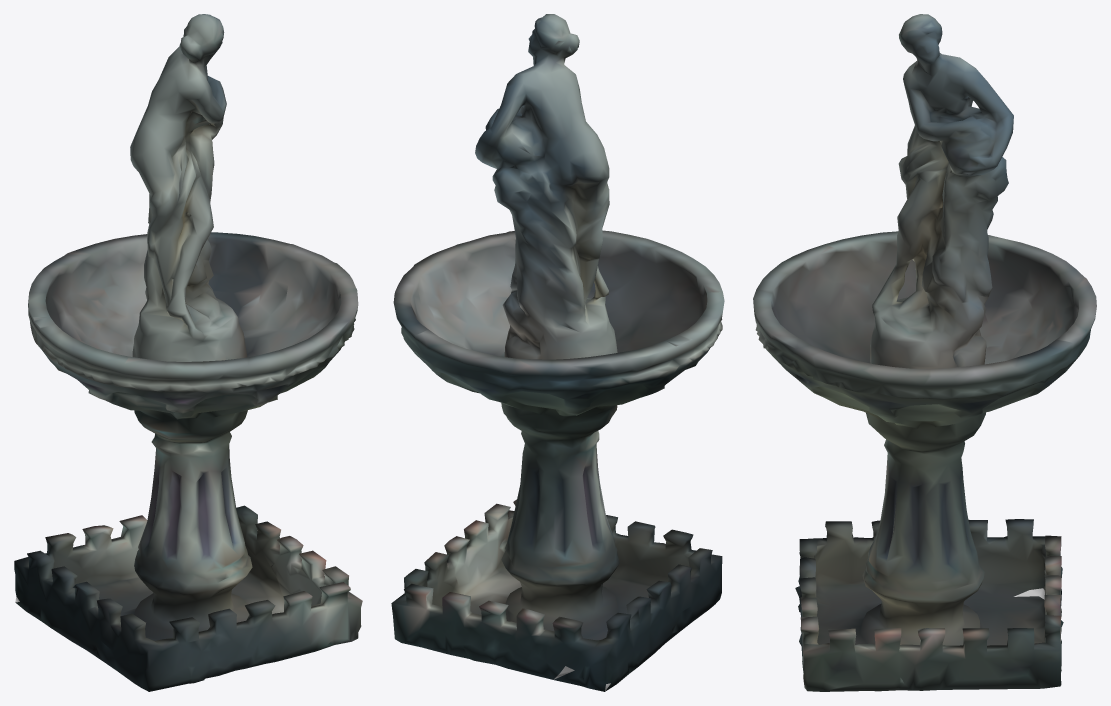
Rendered from GardenStatue.fbx.
3 views of the same model, side by side, from view 1: azimuth 30°, elevation 25°; view 2: azimuth 150°, elevation 25°; view 3: azimuth 270°, elevation 25° (orthographic). The views are drawn at different scales.
Visible parts, largest first — view 1: GardenStatue; view 2: GardenStatue; view 3: GardenStatue.
Boxes of the visible parts, left/top/right/bottom form: GardenStatue: left=14, top=14, right=362, bottom=691; GardenStatue: left=391, top=14, right=724, bottom=691; GardenStatue: left=753, top=14, right=1096, bottom=691.
Size of the model in its own units: 1230 by 2452 by 1221.
